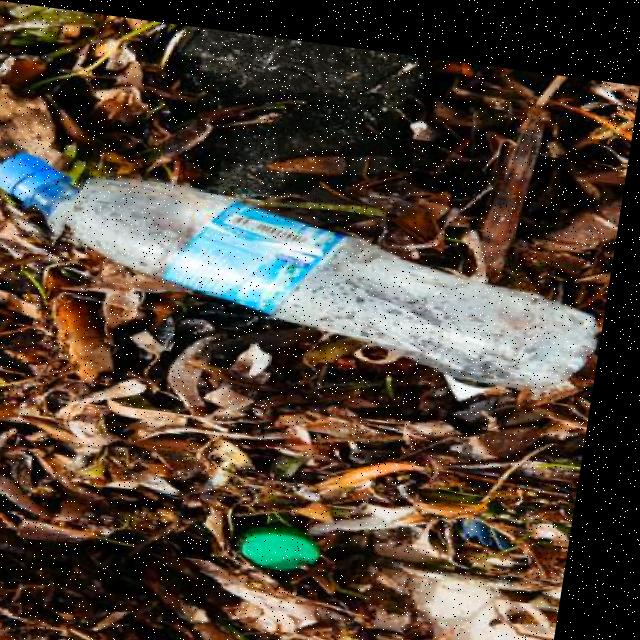plasticbottlecap: (0, 132, 93, 239)
